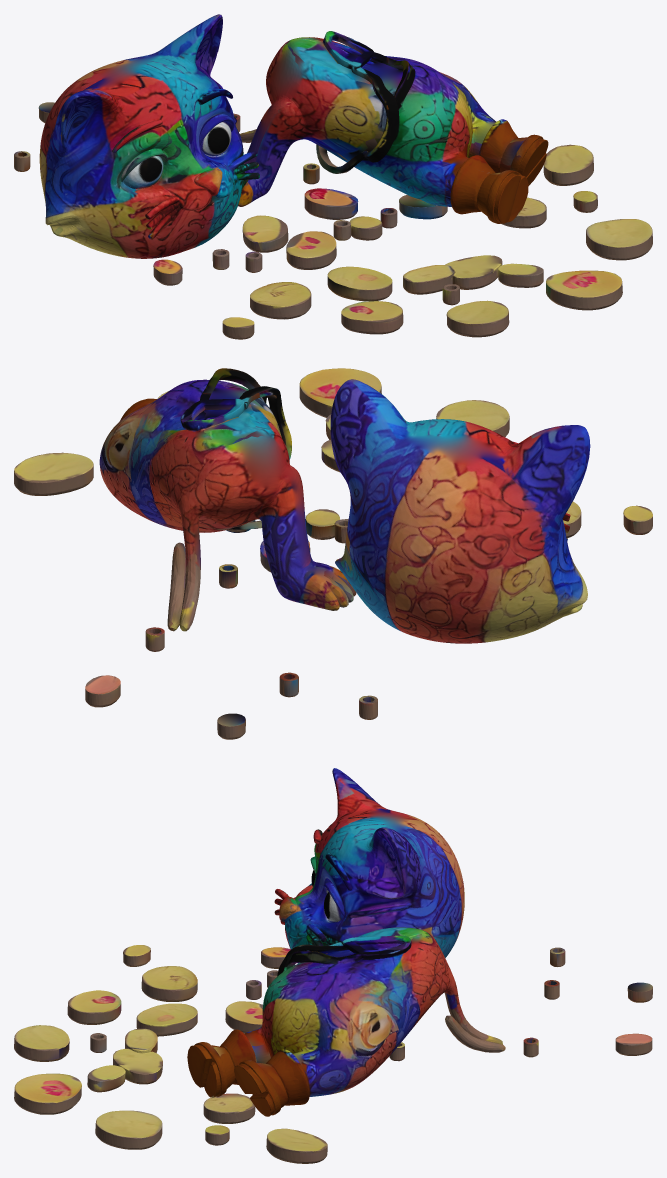
3 renders of one model, top to bottom at view 1: azimuth 30°, elevation 25°; view 2: azimuth 150°, elevation 25°; view 3: azimuth 270°, elevation 25°, orthographic. The views are drawn at different scales.
Visible parts, largest first — view 1: texture_pbr_v128; view 2: texture_pbr_v128; view 3: texture_pbr_v128.
Part boxes in pixels (x1,y1,x2,y2): texture_pbr_v128: (14, 14, 652, 339); texture_pbr_v128: (14, 368, 652, 739); texture_pbr_v128: (14, 768, 652, 1163).
Bounding box in the file's own units: 0.9297 × 0.3444 × 1.06.
1 material, 1 textured.
